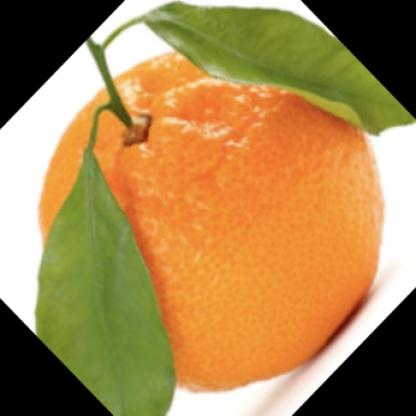fresh: (41, 45, 383, 390)
